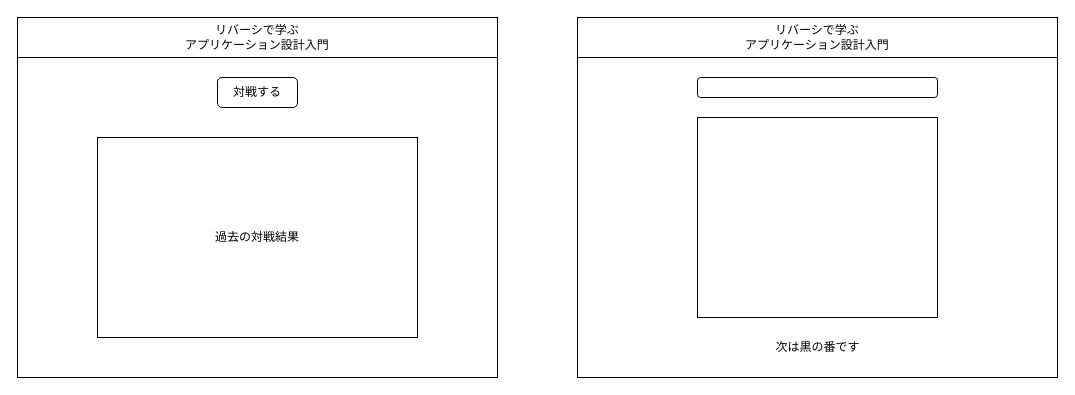
Some shapes in this 1075 by 395 pixel diagram are drawn without their labels. The centre of each missing label's shape, as x and y in pixels:
白の番はスキップです: (x=817, y=87)
盤面: (x=817, y=217)
